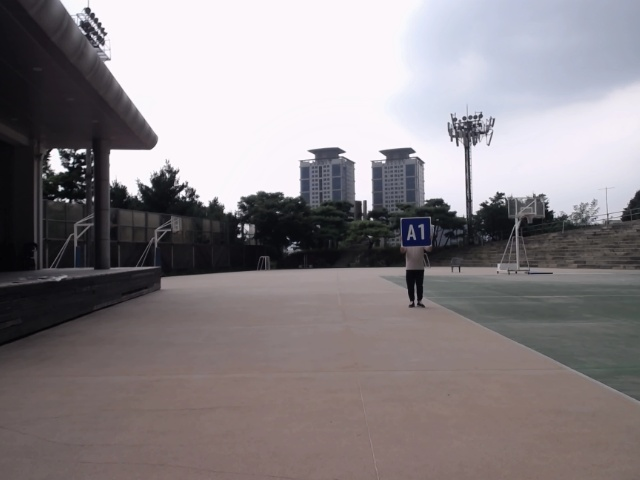delivery_a1: (401, 217, 432, 247)
